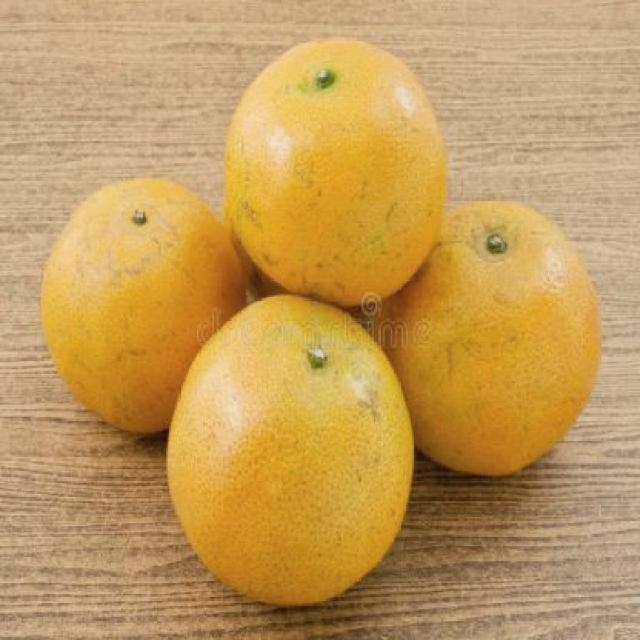Jeruk Sudah Matang: (172, 290, 416, 606), (222, 33, 447, 309), (380, 198, 605, 470), (37, 179, 248, 441)
